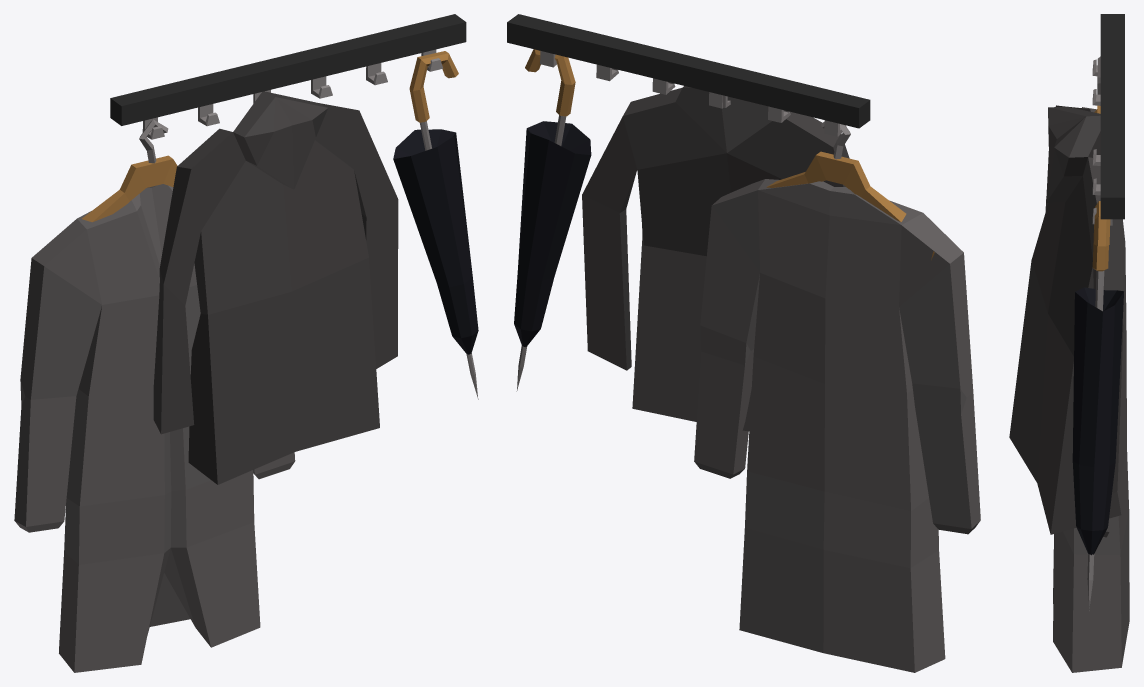
File: furniture-hanger-wall-clothes-a.glb
The picture shows the model from 3 angles, left to right: view 1: azimuth 30°, elevation 25°; view 2: azimuth 150°, elevation 25°; view 3: azimuth 270°, elevation 25°; orthographic projection. The views are drawn at different scales.
Parts seen in each view (by area): view 1: hanger-wall-clothes-a; view 2: hanger-wall-clothes-a; view 3: hanger-wall-clothes-a.
Part boxes in pixels (x1,y1,x2,y2): hanger-wall-clothes-a: (14,14,478,672); hanger-wall-clothes-a: (507,14,980,672); hanger-wall-clothes-a: (1009,14,1129,672).
Size of the model in its own units: 0.954 by 1.09 by 0.2003.
